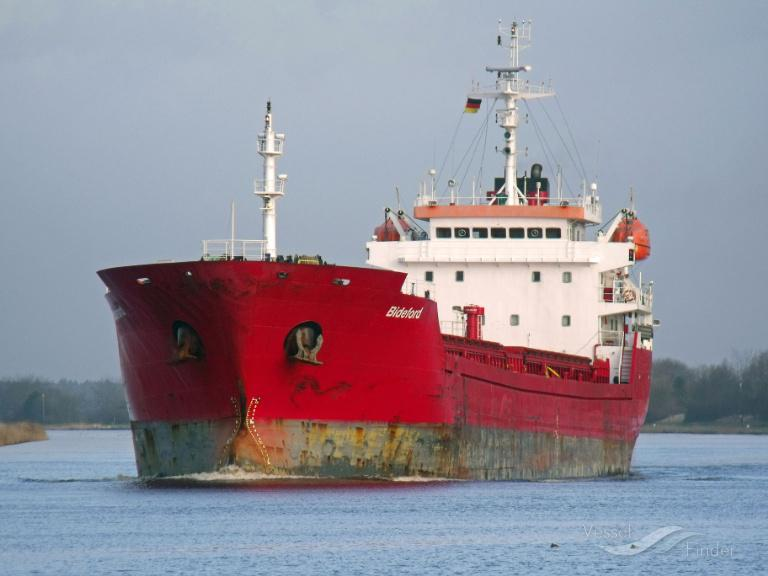OCR: (382, 302, 428, 324)
